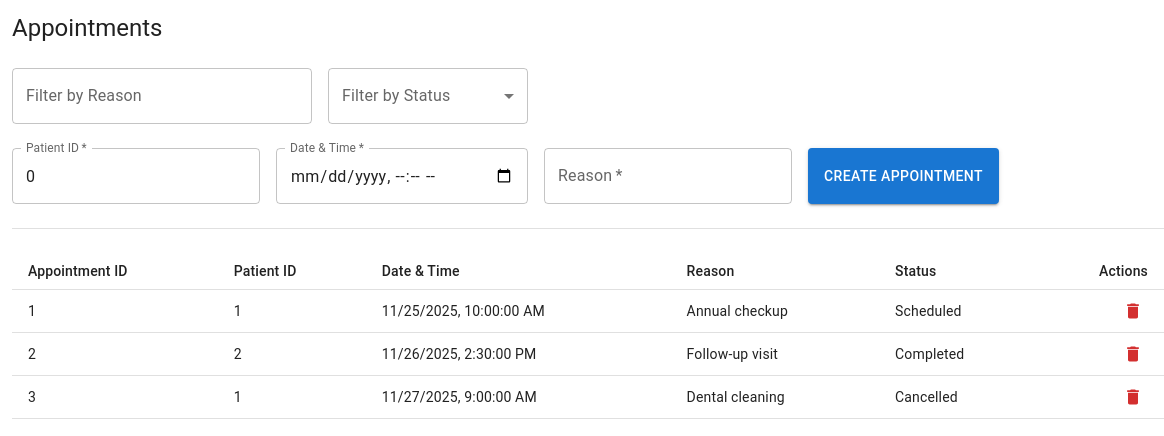
AppointmentsPage › shows all appointments when filters are cleared
The width and height of the screenshot is (1164, 436).
Expected: the text "Annual checkup" is shown, [671,290,879,332]
Type "checkup" into the field with placeholder "Search by appointment reason...". click: (162, 96)
box: [12,68,312,124]
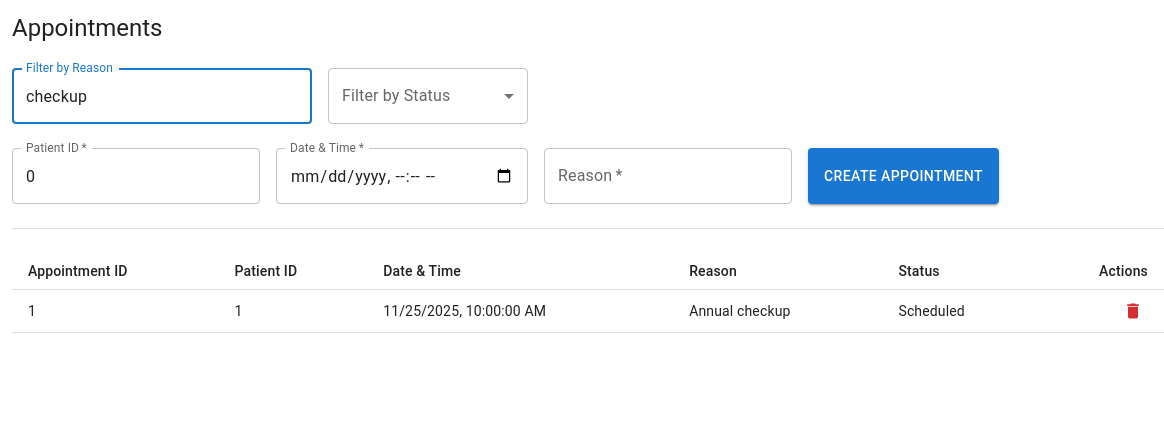
Expected: the text "Follow-up visit" is gone
Clear the field with placeholder "Search by appointment reason...". click: (162, 96)
box: [12,68,312,124]
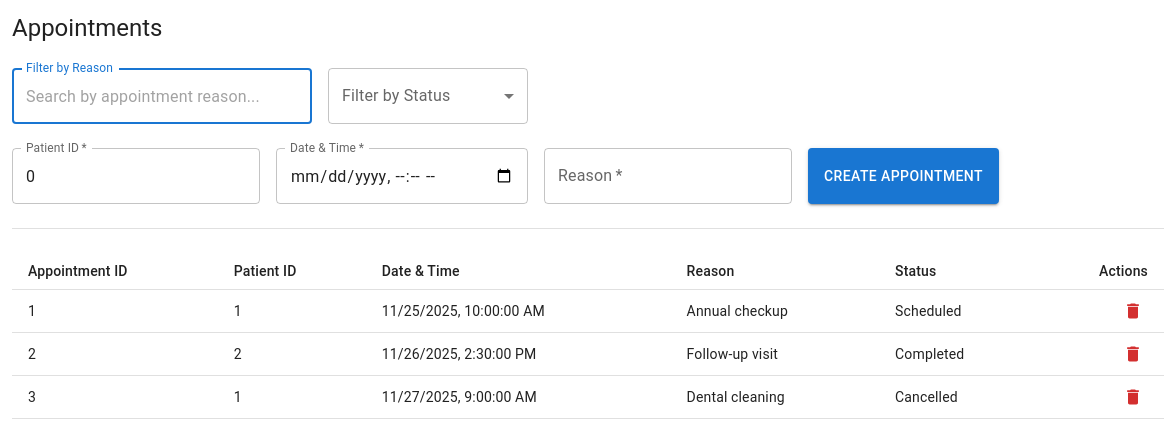
Expected: the text "Annual checkup" is shown, [671,290,879,332]
Expected: the text "Follow-up visit" is shown, [671,332,879,376]
Expected: the text "Dental cleaning" is shown, [671,376,879,418]
